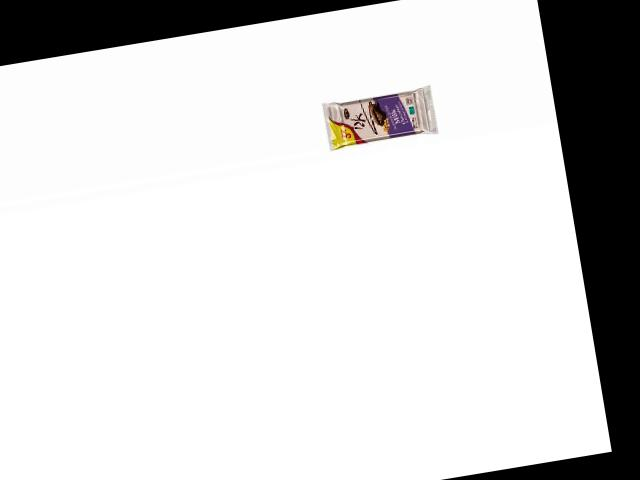chocolate: (318, 81, 439, 154)
